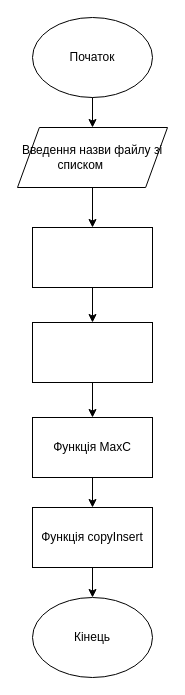
Image size: 185x695. Some labels were removed from this diagram. Each missing label, with the centre of its shape:
"Функція Insert" goes at pixel 92 257.
"Функція Remove" goes at pixel 92 352.
